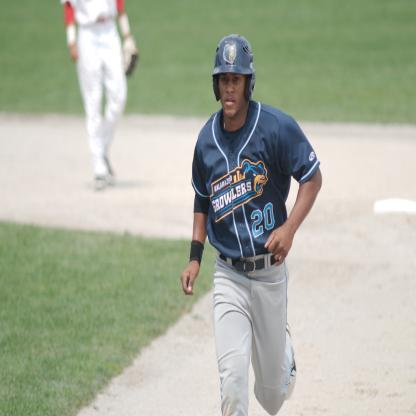Helmet: (215, 29, 259, 116)
